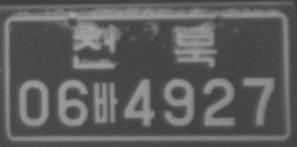0: (17, 79, 50, 128)
2: (202, 76, 238, 128)
4: (123, 77, 155, 127)
6: (56, 78, 90, 127)
7: (242, 75, 276, 128)
9: (162, 77, 195, 126)
바: (92, 80, 119, 125)
전북_D: (73, 25, 218, 70)
